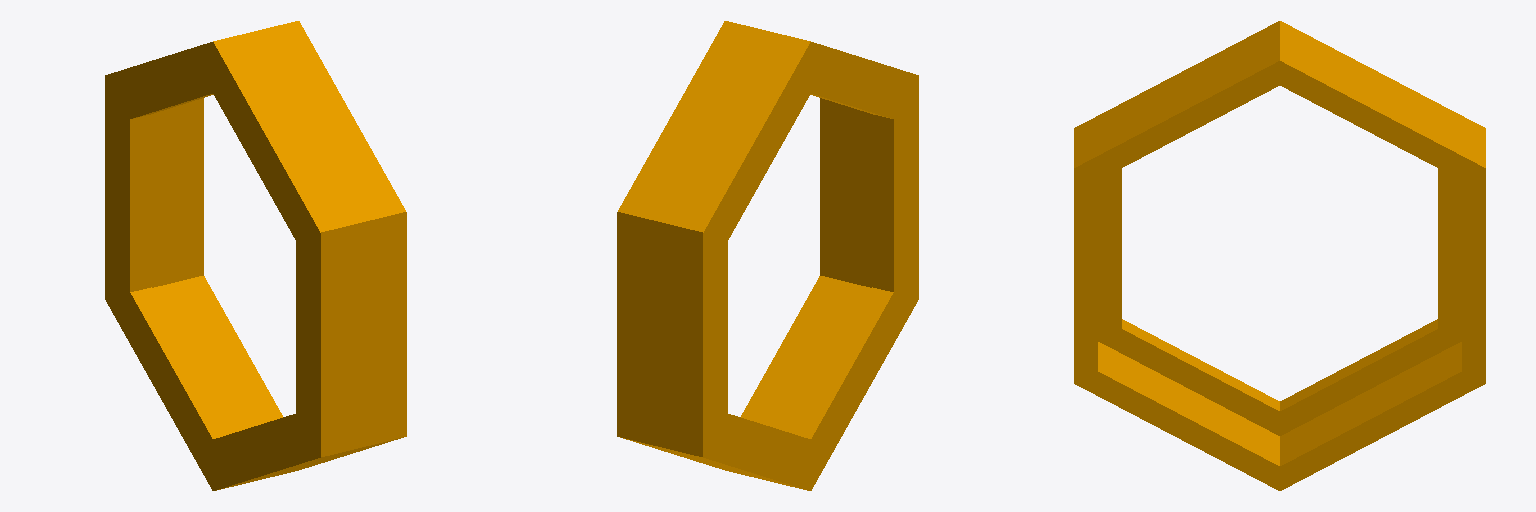
The robot description file, URDF, robot "Honeycomb":
<?xml version='1.0' encoding='utf-8'?>
<robot name="Honeycomb">
  <link name="Honeycomb">
    <inertial><origin xyz="0.000000 0.000000 0.010000" rpy="0 0 0" /><mass value="0.1732" /><inertia ixx="0.000114027" ixy="0" ixz="0" iyy="0.000150111" iyz="0" izz="0.000252591" /></inertial><visual>
      <origin xyz="0.000000 0.000000 0.000000" rpy="0. 1.5707964 0. " />
      <geometry>
        <mesh filename="meshes/Mesh.obj" scale="0.001000 0.001000 0.001000" />
      </geometry>
    </visual>
  <collision><origin xyz="0.000000 0.000000 0.000000" rpy="0. 1.5707964 0. " /><geometry><mesh filename="meshes/Mesh.obj" scale="0.001000 0.001000 0.001000" /></geometry></collision></link>
</robot>

--- Facts derived from the render (not from the file) ---
The picture shows the robot from 3 angles, left to right: view 1: azimuth 30°, elevation 25°; view 2: azimuth 150°, elevation 25°; view 3: azimuth 270°, elevation 25°; orthographic projection.
Robot: Honeycomb — 1 links, 0 joints (none); root link Honeycomb; default pose: every joint at zero.
Visible links, largest first — view 1: Honeycomb; view 2: Honeycomb; view 3: Honeycomb.
Link boxes in pixels (bbox=[...]): Honeycomb: bbox=[105, 21, 406, 490]; Honeycomb: bbox=[617, 21, 918, 490]; Honeycomb: bbox=[1074, 21, 1485, 490].
Size in the robot's own frame: 0.02 by 0.0866 by 0.1 metres.
1 mesh visuals loaded from 1 distinct referenced files (1 OBJ).
